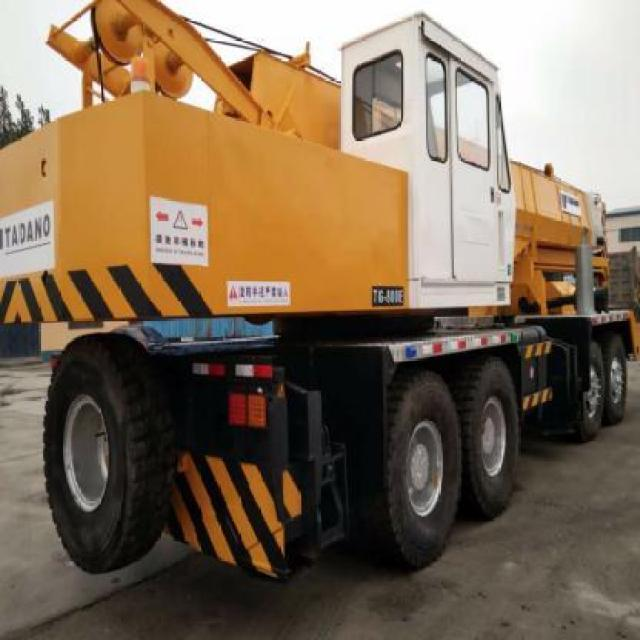Mobile Crane: (2, 0, 638, 585)
